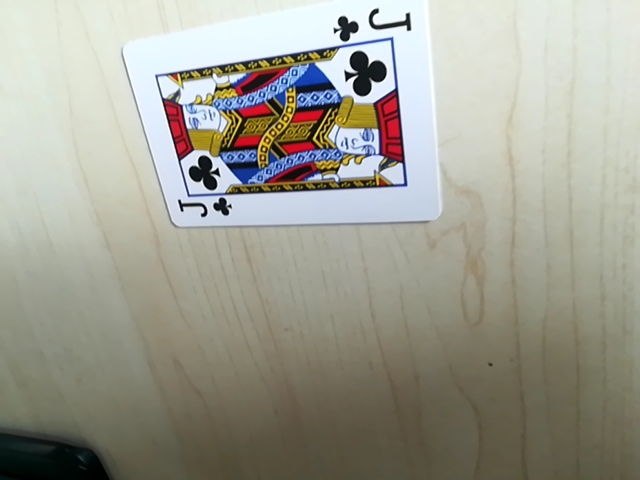mh j: (335, 5, 416, 42), (170, 190, 230, 226)
